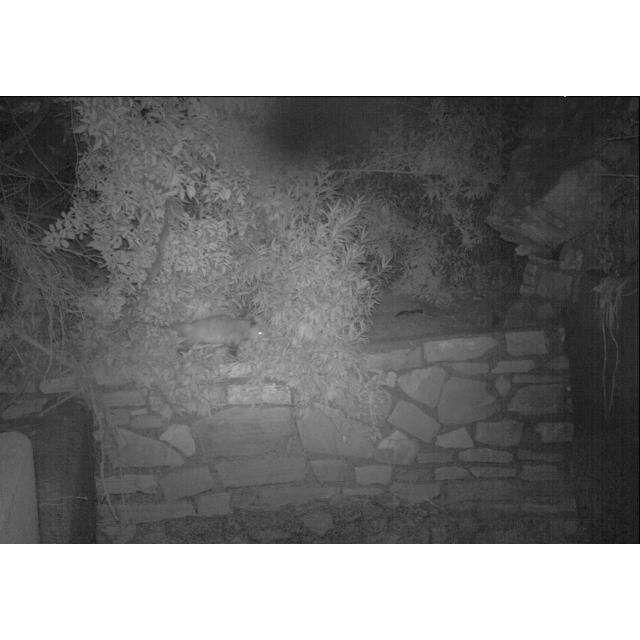animals: (163, 313, 261, 357)
